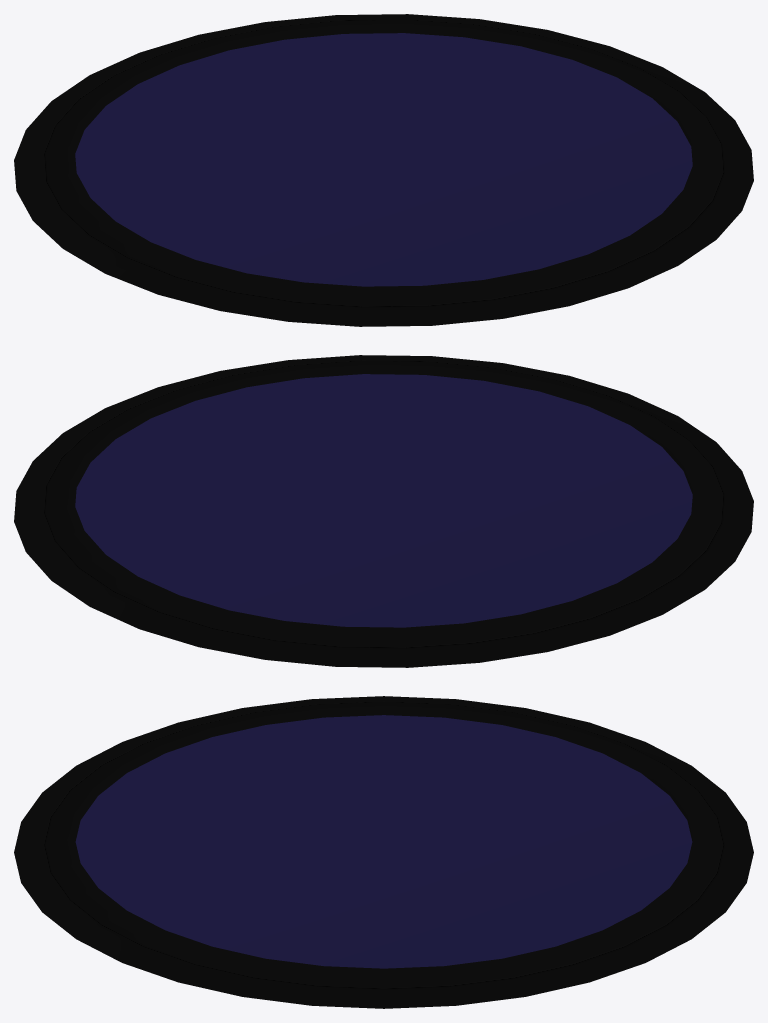
The model's file is tpPad.glb.
3 views of the same model, one above another, from view 1: azimuth 30°, elevation 25°; view 2: azimuth 150°, elevation 25°; view 3: azimuth 270°, elevation 25° (orthographic).
Visible parts, largest first — view 1: Cylinder; view 2: Cylinder; view 3: Cylinder.
Part boxes in pixels (bbox=[...]): Cylinder: bbox=[14, 14, 753, 326]; Cylinder: bbox=[14, 355, 753, 667]; Cylinder: bbox=[14, 696, 753, 1008].
Bounding box in the file's own units: 2 × 0.0434 × 2.
